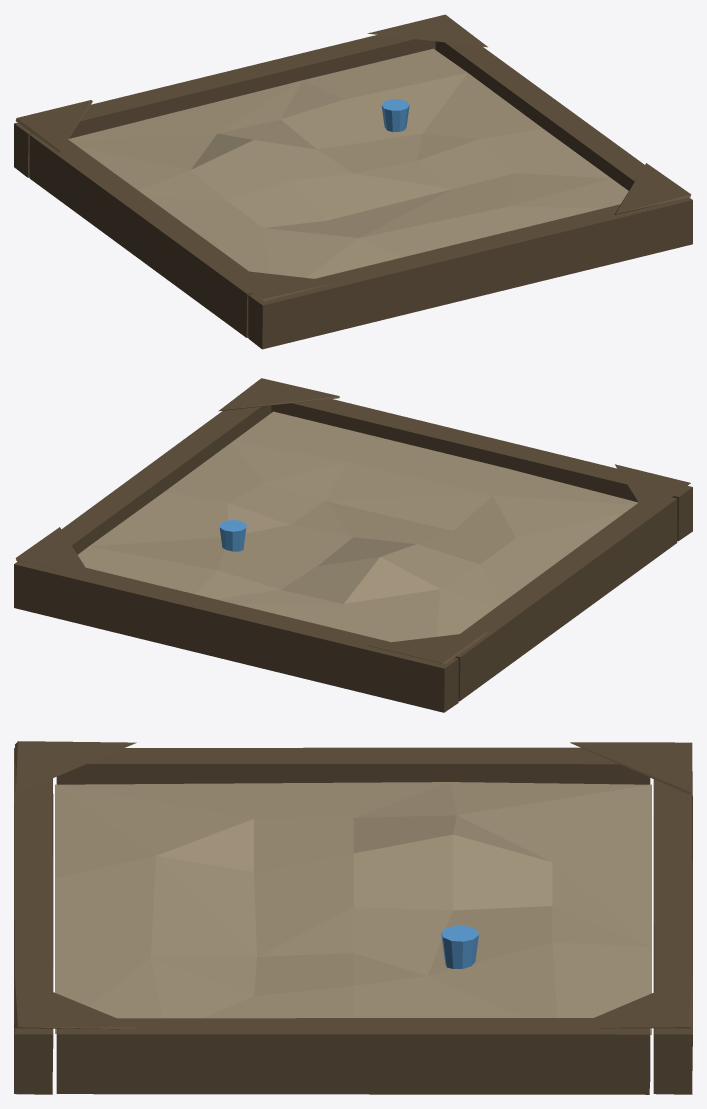
Rendered from sandbox-lod1.glb.
3 views of the same model, one above another, from view 1: azimuth 30°, elevation 25°; view 2: azimuth 150°, elevation 25°; view 3: azimuth 270°, elevation 25° (orthographic). The views are drawn at different scales.
Visible parts, largest first — view 1: sandbox.001; view 2: sandbox.001; view 3: sandbox.001.
Part boxes in pixels (box(x1,y1,x2,y2)): sandbox.001: box(14, 14, 692, 349); sandbox.001: box(14, 378, 692, 712); sandbox.001: box(14, 741, 692, 1094).
Bounding box in the file's own units: 3.18 × 0.3872 × 3.18.
